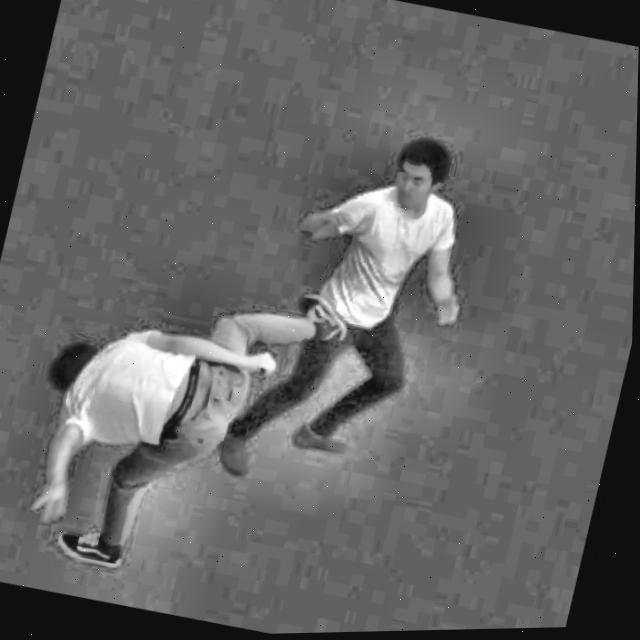robbery: (27, 126, 468, 580)
